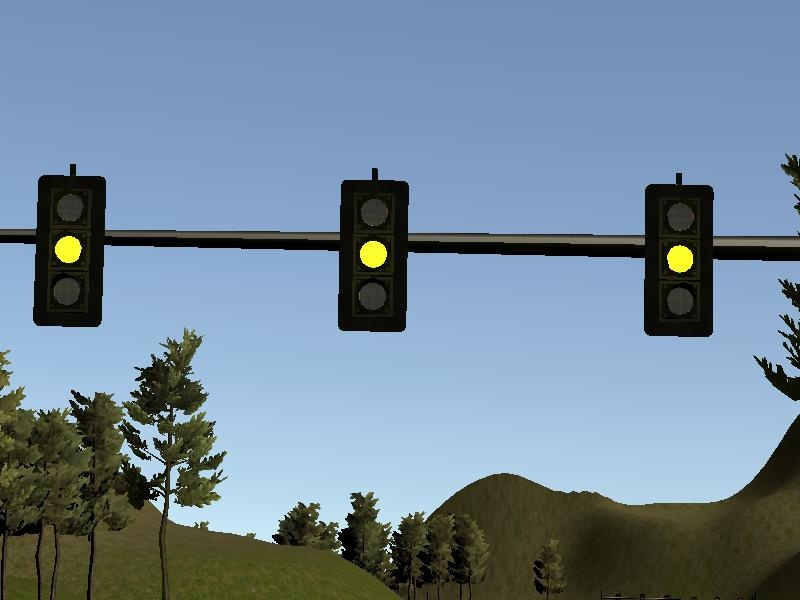YELLOW: (641, 182, 715, 337), (335, 179, 409, 334), (33, 172, 107, 327)
